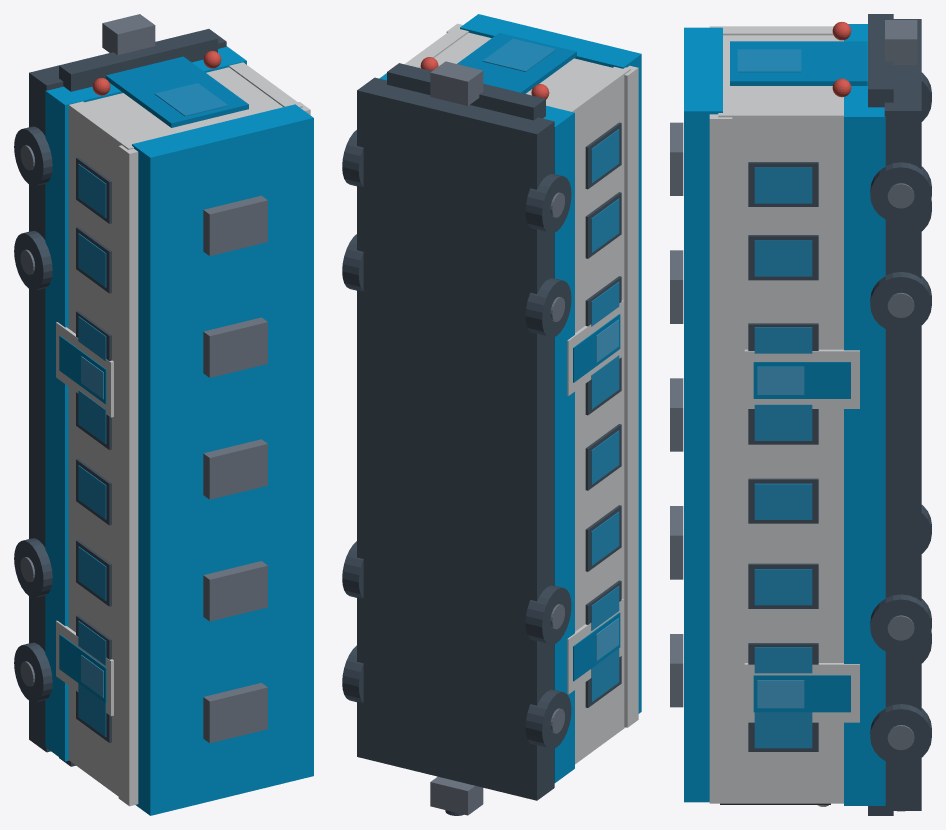
Rendered from trem_not_3d.glb.
The picture shows the model from 3 angles, left to right: view 1: azimuth 30°, elevation 25°; view 2: azimuth 150°, elevation 25°; view 3: azimuth 270°, elevation 25°; orthographic projection. The views are drawn at different scales.
Parts seen in each view (by area): view 1: roof_blue, body_white, lower_blue_band, roof_edge_L, chassis, rear_door, rear_bumper, roof_vent_0, roof_vent_1, roof_vent_2, roof_vent_3, roof_vent_4 (+26 smaller); view 2: chassis, body_white, lower_blue_band, roof_edge_L, roof_blue, rear_door, rear_bumper, rear_coupler, wheel_-1_1, wheel_-1_3, wheel_-1_2, wheel_-1_0 (+26 smaller); view 3: body_white, lower_blue_band, roof_blue, chassis, roof_edge_R, rear_door, corner_1.445_5.4, doorframe_1_1, wheel_1_3, wheel_1_0, wheel_1_2, wheel_1_1 (+35 smaller).
Part boxes in pixels (x1,y1,x2,y2): roof_blue: (132,104,313,815); body_white: (68,67,304,794); lower_blue_band: (45,46,246,761); roof_edge_L: (118,145,138,806); chassis: (29,29,226,752); rear_door: (106,56,248,127); rear_bumper: (59,29,217,91); roof_vent_0: (203,683,267,743); roof_vent_1: (203,561,267,621); roof_vent_2: (203,439,267,499); roof_vent_3: (203,317,267,377); roof_vent_4: (203,195,267,255); chassis: (357,77,554,800); body_white: (420,26,632,762); lower_blue_band: (379,73,574,783); roof_edge_L: (624,65,638,727); roof_blue: (460,14,641,713); rear_door: (457,32,576,93); rear_bumper: (387,63,545,120); rear_coupler: (430,61,483,105); wheel_-1_1: (525,585,571,644); wheel_-1_3: (525,174,571,233); wheel_-1_2: (525,278,571,337); wheel_-1_0: (525,689,571,749); body_white: (713,35,843,801); lower_blue_band: (844,24,885,805); roof_blue: (684,27,722,802); chassis: (884,19,921,810); roof_edge_R: (709,114,732,803); rear_door: (730,41,867,85); corner_1.445_5.4: (718,108,843,146); doorframe_1_1: (744,349,859,408); wheel_1_3: (870,162,931,223); wheel_1_0: (870,704,931,764); wheel_1_2: (870,272,931,332); wheel_1_1: (870,594,931,655).
Bounding box in the file's own units: 3.68 × 12.76 × 3.9.
